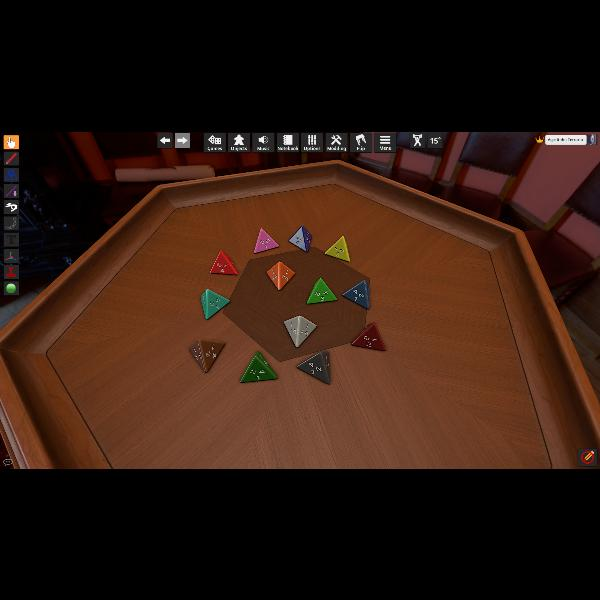d4: (296, 351, 332, 384), (189, 338, 223, 372), (241, 352, 277, 383), (284, 316, 316, 348), (352, 322, 384, 351), (201, 288, 229, 318), (342, 279, 370, 309), (267, 260, 295, 290), (307, 278, 337, 304), (210, 251, 238, 276), (324, 236, 350, 262), (288, 225, 312, 252), (254, 228, 278, 254)
